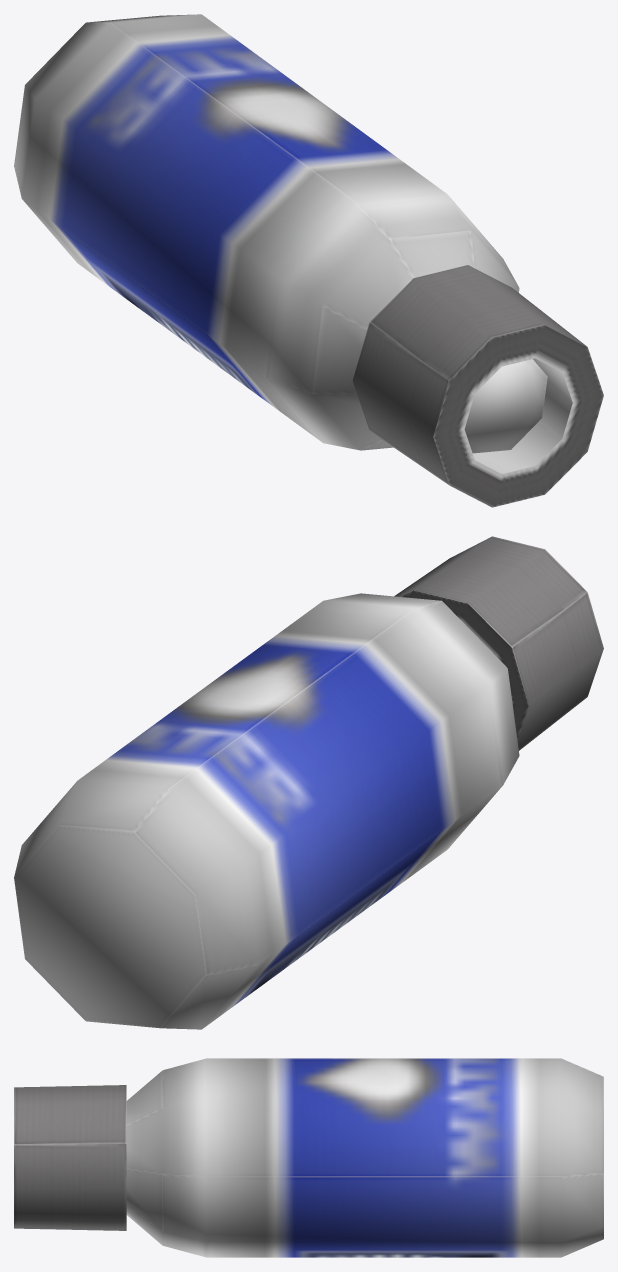
Rendered from WaterBottleSilencer.fbx.
3 renders of one model, top to bottom at view 1: azimuth 30°, elevation 25°; view 2: azimuth 150°, elevation 25°; view 3: azimuth 270°, elevation 25°, orthographic. The views are drawn at different scales.
Parts seen in each view (by area): view 1: WaterBottleSilencer; view 2: WaterBottleSilencer; view 3: WaterBottleSilencer.
Part boxes in pixels (<box>): WaterBottleSilencer: <box>14,14,603,507</box>; WaterBottleSilencer: <box>14,536,603,1029</box>; WaterBottleSilencer: <box>14,1058,603,1257</box>.
Bounding box in the file's own units: 4.64 × 4.64 × 13.92.
